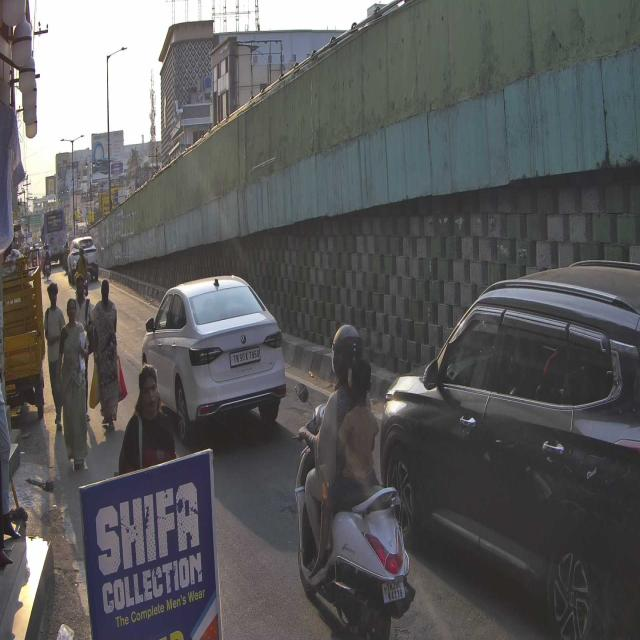double_rider: (291, 318, 415, 640)
